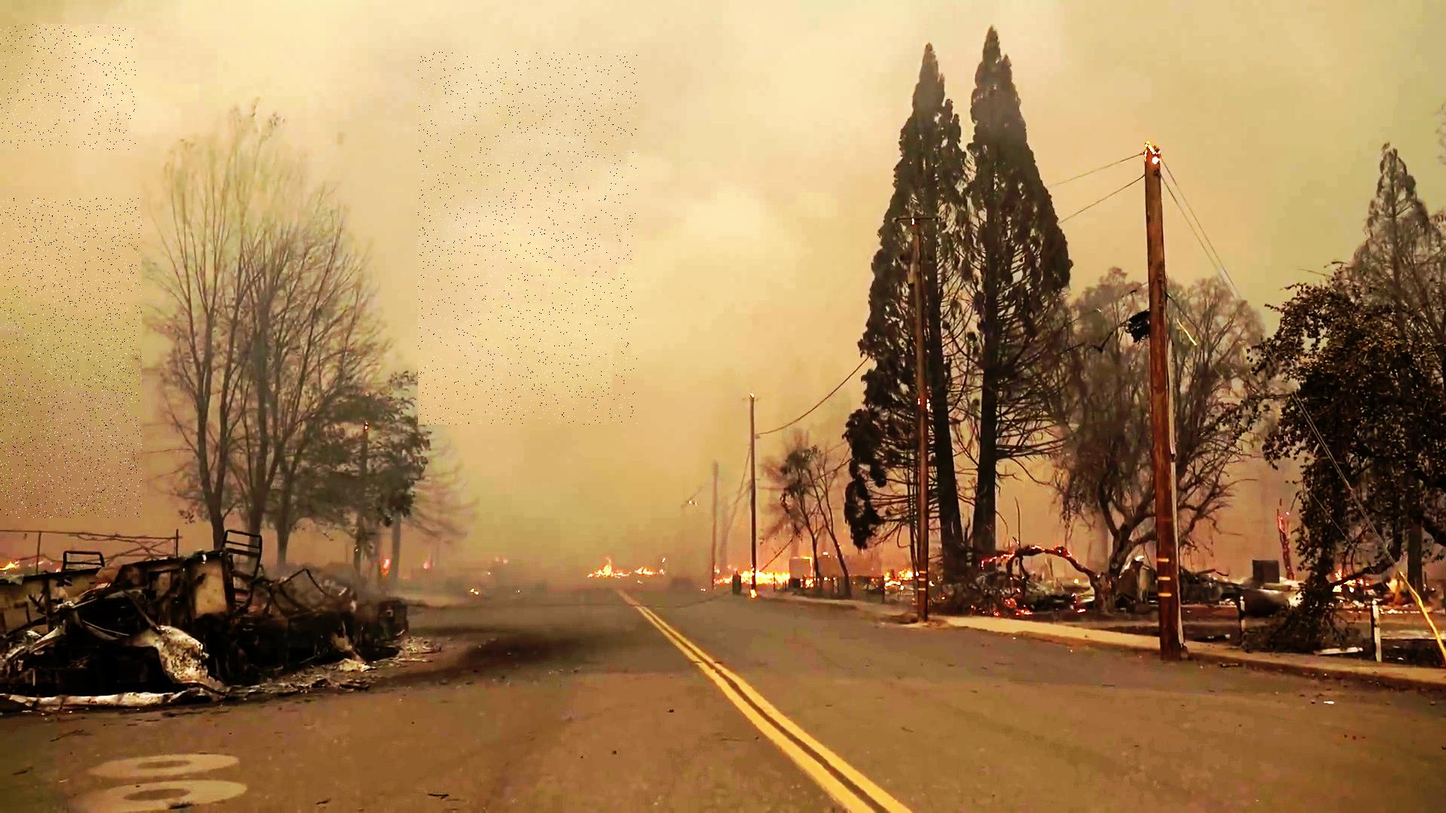smoke: (419, 51, 638, 425), (0, 198, 142, 518), (0, 25, 136, 151)
